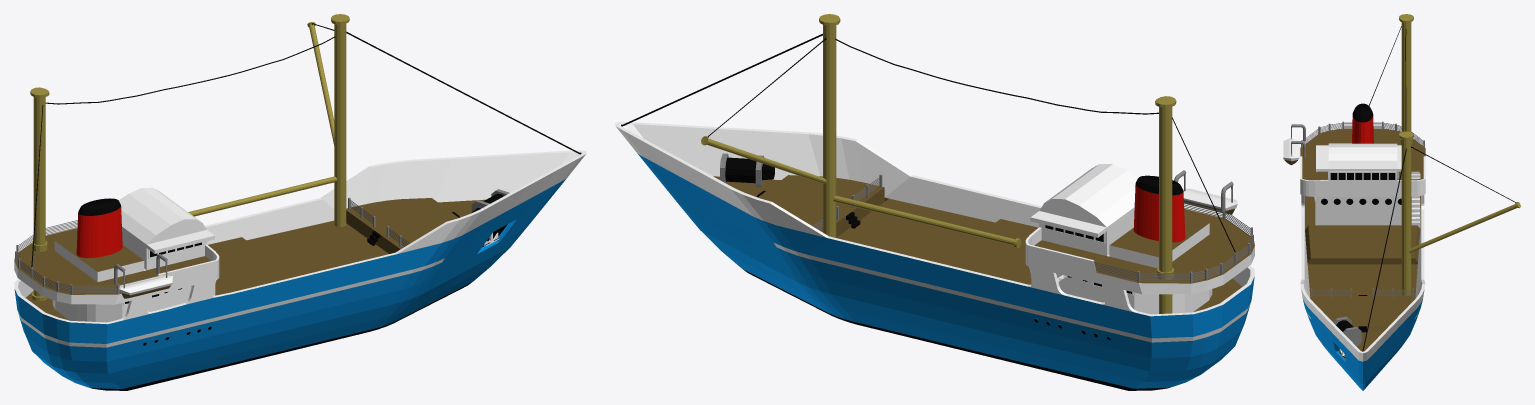
Rendered from PershogubaShip.fbx.
The picture shows the model from 3 angles, left to right: view 1: azimuth 30°, elevation 25°; view 2: azimuth 150°, elevation 25°; view 3: azimuth 270°, elevation 25°; orthographic projection. The views are drawn at different scales.
Parts seen in each view (by area): view 1: Ship; view 2: Ship; view 3: Ship.
Boxes of the visible parts, left/top/right/bottom form: Ship: left=14, top=14, right=586, bottom=390; Ship: left=615, top=14, right=1254, bottom=390; Ship: left=1283, top=14, right=1520, bottom=390.
Size of the model in its own units: 1608 by 750 by 745.
